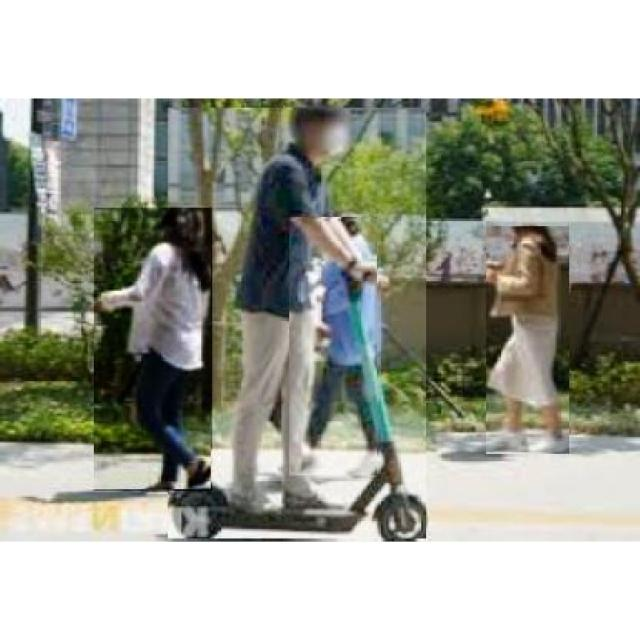pedestrian: (168, 109, 427, 542), (95, 210, 214, 492), (290, 218, 379, 476), (487, 228, 570, 457)
